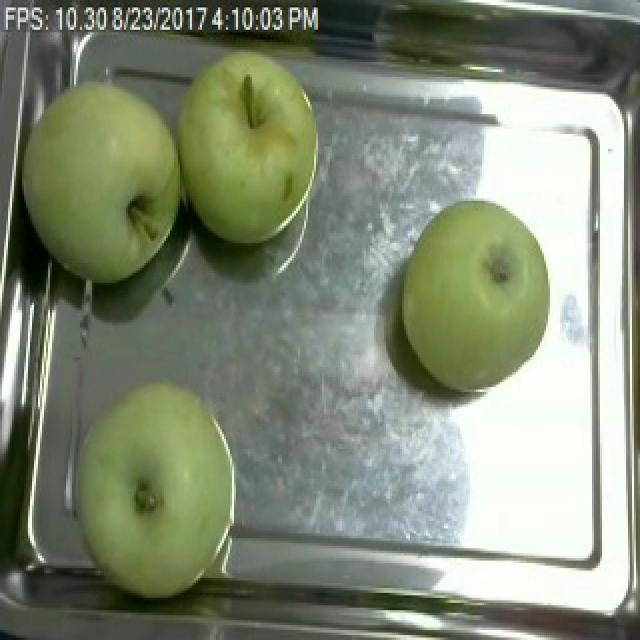50-_ripeness: (75, 385, 236, 605), (381, 198, 559, 393), (23, 83, 182, 283), (181, 50, 318, 244)
